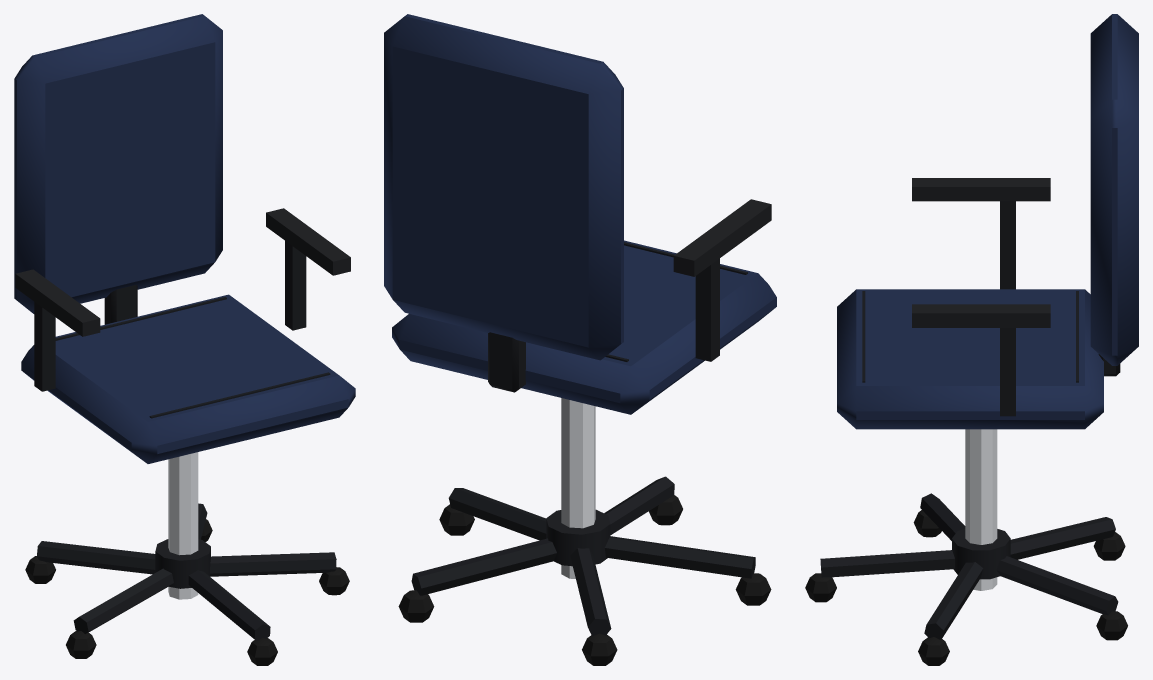
File: chair_swivel_office_chair.glb
3 renders of one model, left to right at view 1: azimuth 30°, elevation 25°; view 2: azimuth 150°, elevation 25°; view 3: azimuth 270°, elevation 25°, orthographic. The views are drawn at different scales.
Parts seen in each view (by area): view 1: chair_swivel_office_chair; view 2: chair_swivel_office_chair; view 3: chair_swivel_office_chair.
Boxes of the visible parts, left/top/right/bottom form: chair_swivel_office_chair: left=14, top=14, right=355, bottom=665; chair_swivel_office_chair: left=384, top=14, right=776, bottom=665; chair_swivel_office_chair: left=805, top=14, right=1138, bottom=665.
Bounding box in the file's own units: 0.6225 × 1.12 × 0.625.
